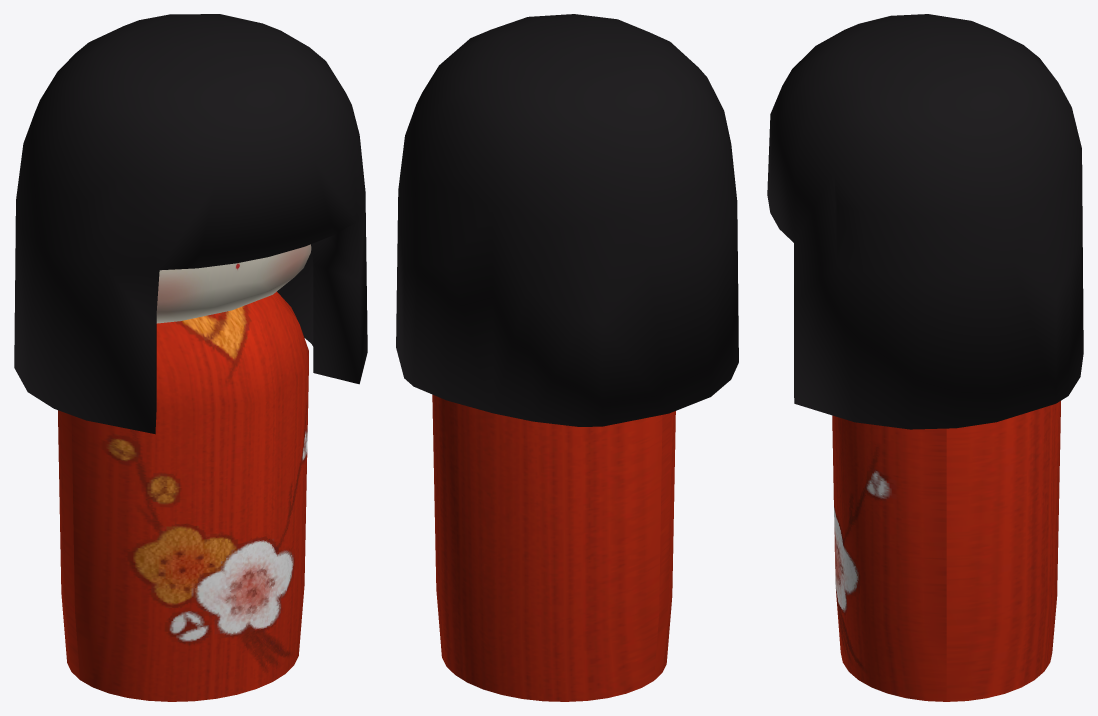
The model's file is Kokeshi1.a.fbx.
The picture shows the model from 3 angles, left to right: view 1: azimuth 30°, elevation 25°; view 2: azimuth 150°, elevation 25°; view 3: azimuth 270°, elevation 25°; orthographic projection. The views are drawn at different scales.
Visible parts, largest first — view 1: Group 0; view 2: Group 0; view 3: Group 0.
Boxes of the visible parts, box(x1,y1,x2,y2) form: Group 0: box(14, 14, 367, 701); Group 0: box(396, 14, 738, 701); Group 0: box(767, 14, 1083, 701).
Bounding box in the file's own units: 9.71 × 18.68 × 8.77.
1 material, 1 textured.
